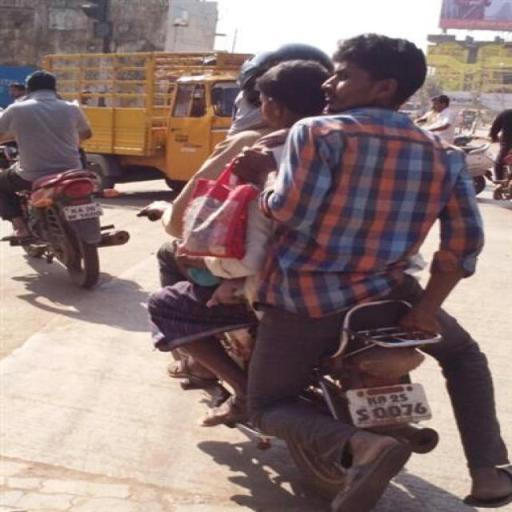tripple riding: (160, 32, 498, 313)
